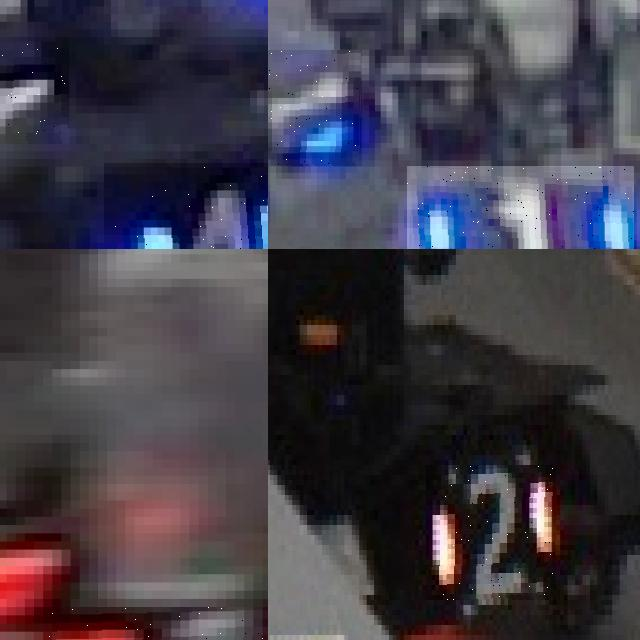B1: (407, 166, 634, 249), (268, 49, 363, 166)
B4: (104, 162, 268, 249), (0, 37, 69, 143)
R2: (426, 465, 556, 600)
